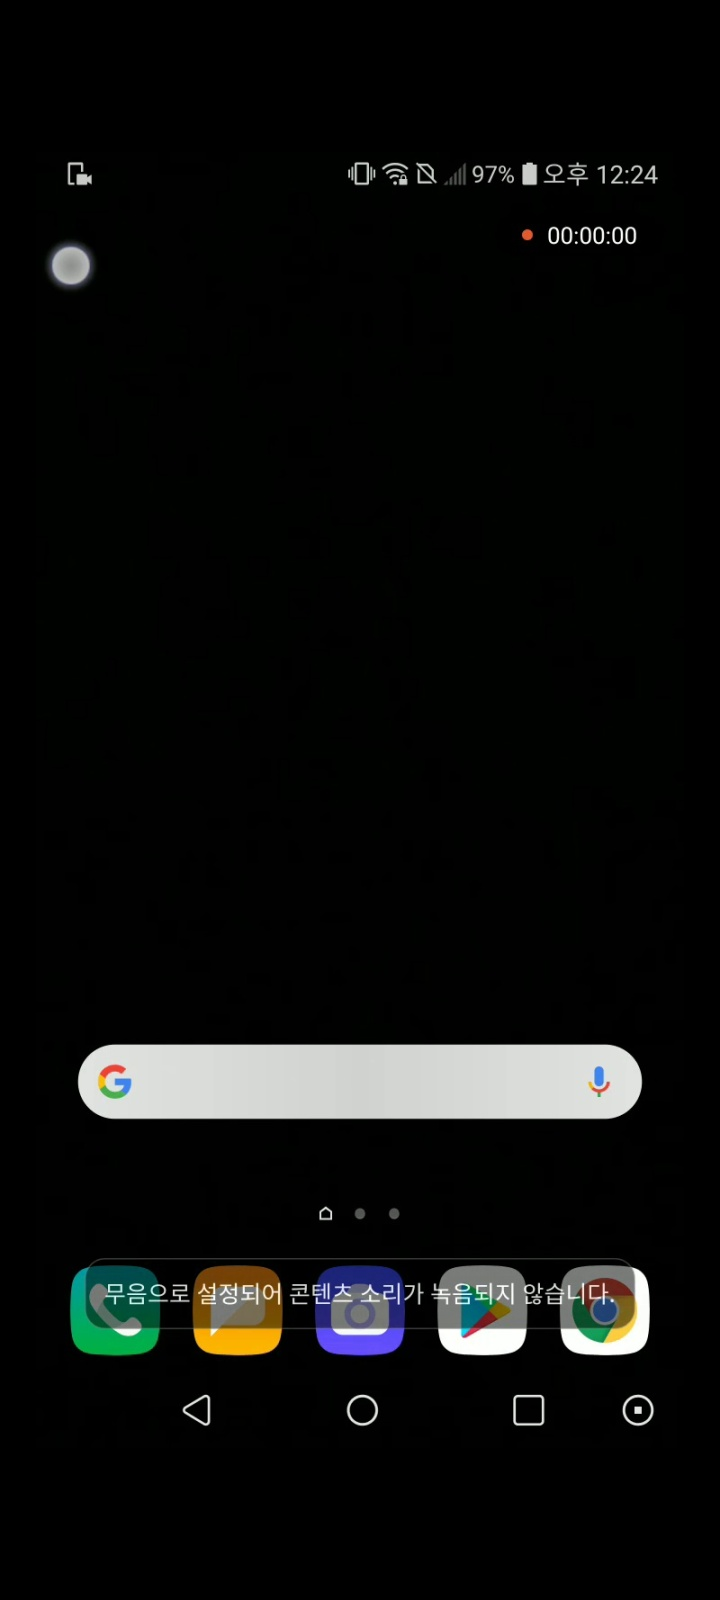Cursor: (48, 244, 93, 289)
